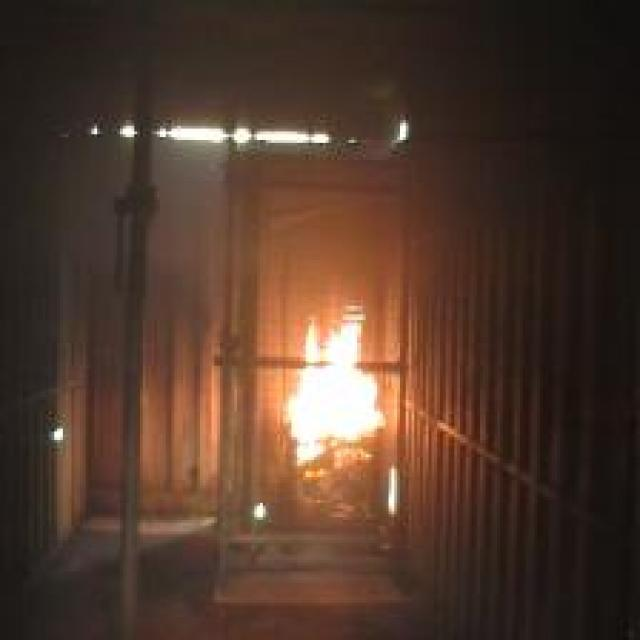Fire: (284, 307, 384, 467)
